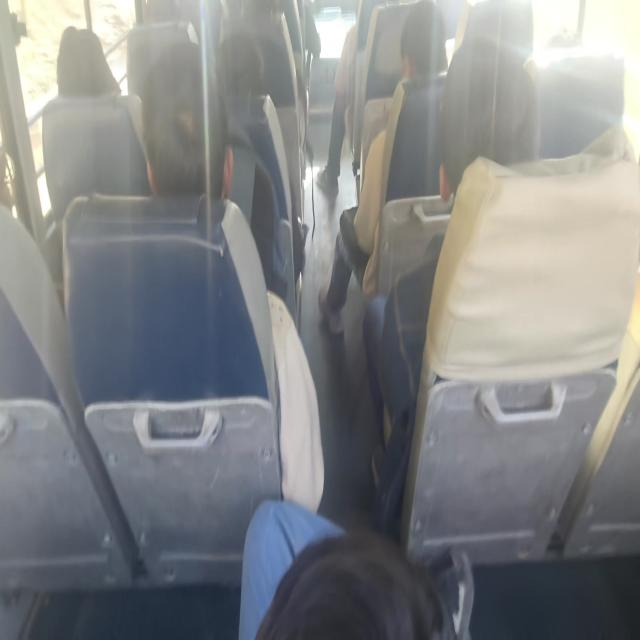person: (138, 39, 325, 512), (370, 34, 540, 531), (317, 1, 448, 335), (139, 40, 288, 299), (238, 498, 458, 638), (41, 25, 150, 222), (140, 40, 234, 200), (316, 0, 392, 196)
